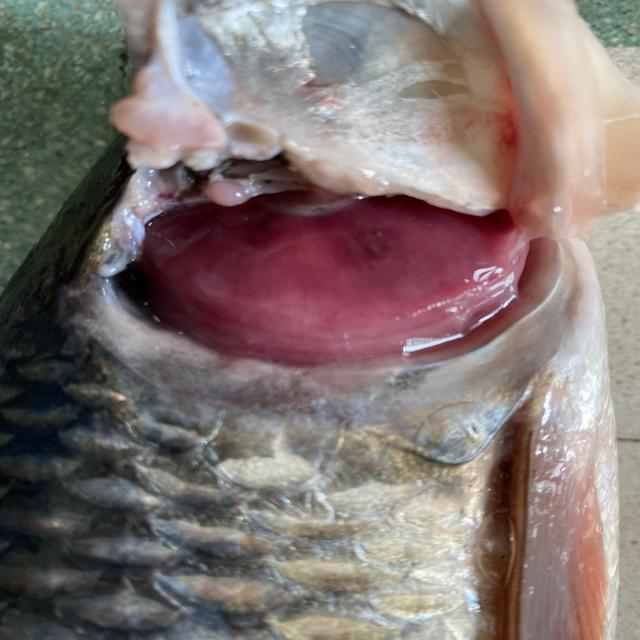Fresh: (92, 161, 621, 378)
